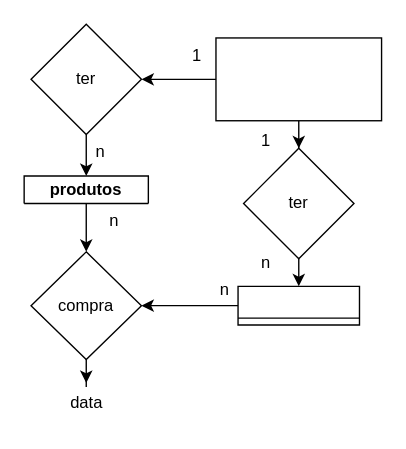
This 406x449 diagram has some shape labels left out. Here are the shapes that lost their labels. From the top down, the centre of each, then its label:
At (298,79): "Floricultura".
At (298,305): "clientes".
